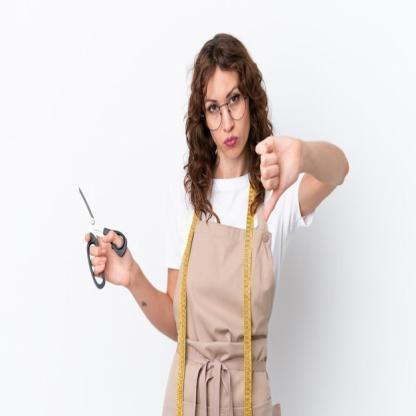thumb_down: (254, 128, 301, 223)
